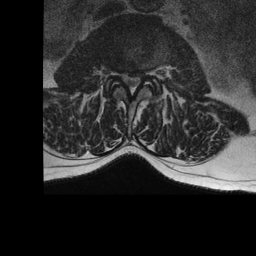CCS_normal: (128, 66, 135, 100)
LFS_stenosis: (142, 61, 150, 85)
LLS_stenosis: (135, 66, 142, 93)
RFS_stenosis: (114, 61, 121, 86)
RLS_normal: (121, 64, 128, 90)
